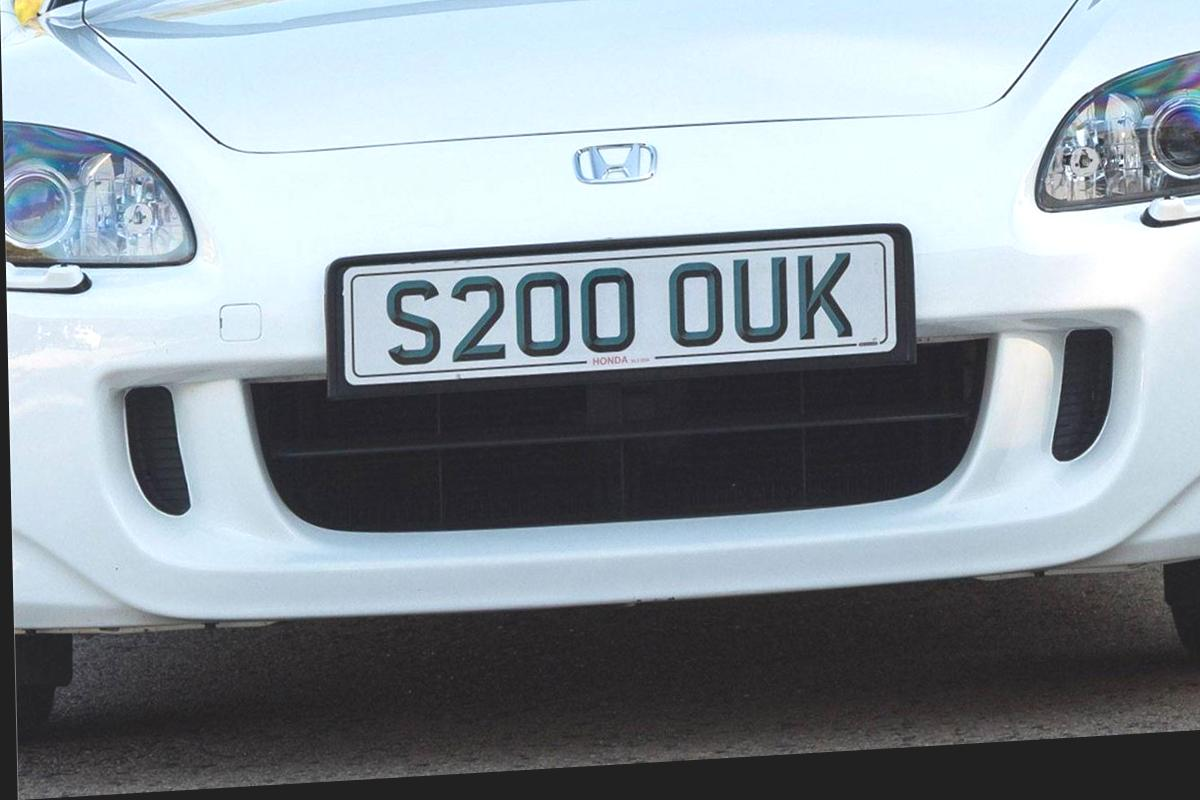License_Plate: (324, 211, 926, 406)
